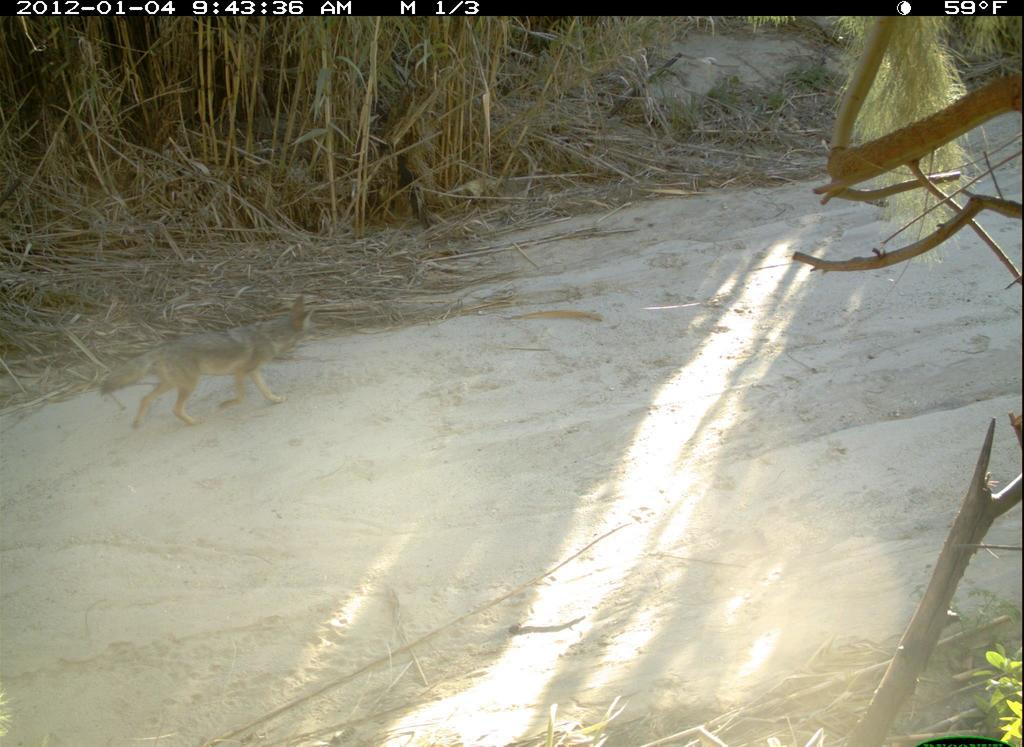coyote: (95, 294, 329, 441)
